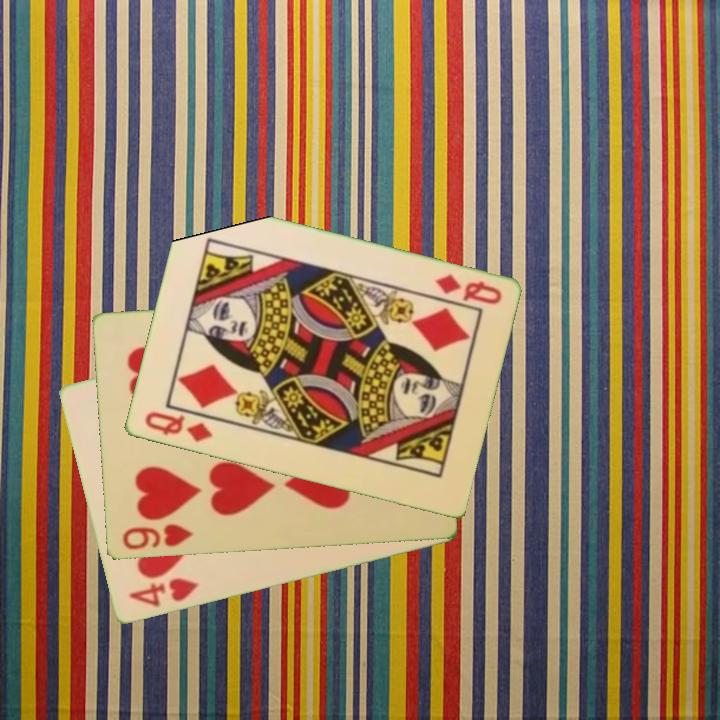4h: (124, 574, 202, 610)
9h: (118, 521, 195, 553)
Qd: (140, 408, 215, 446), (431, 270, 505, 308)
